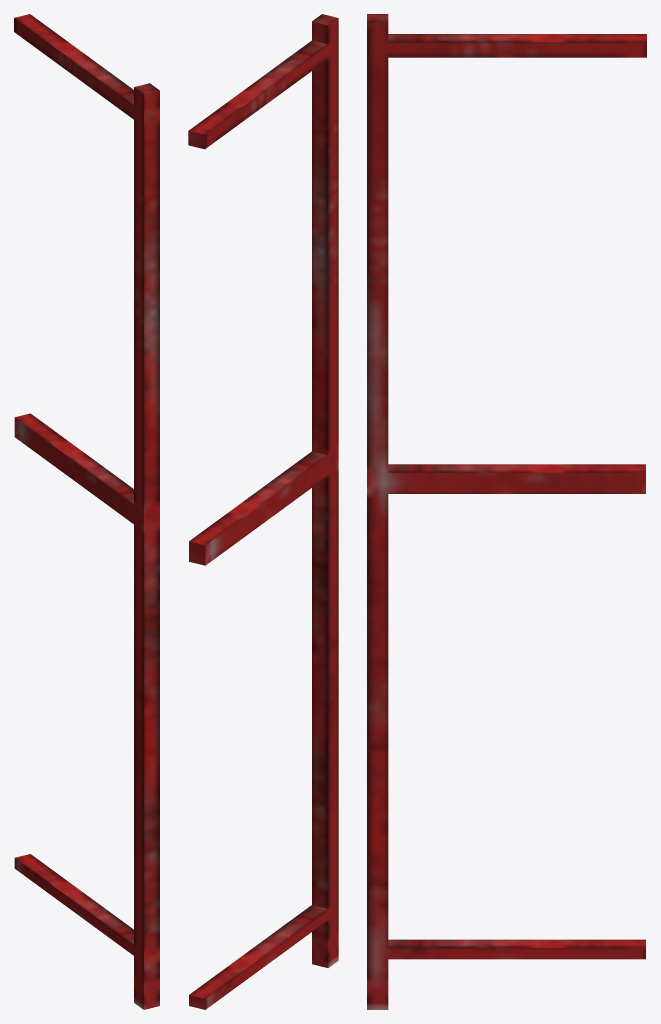
The model's file is Les_Part_02.FBX.
3 views of the same model, side by side, from view 1: azimuth 30°, elevation 25°; view 2: azimuth 150°, elevation 25°; view 3: azimuth 270°, elevation 25° (orthographic). The views are drawn at different scales.
Visible parts, largest first — view 1: Box020; view 2: Box020; view 3: Box020.
Part boxes in pixels (left/top/right/bottom): Box020: left=14, top=14, right=159, bottom=1009; Box020: left=188, top=14, right=338, bottom=1009; Box020: left=367, top=14, right=646, bottom=1009.
Size of the model in its own units: 6.31 by 346 by 88.81.
